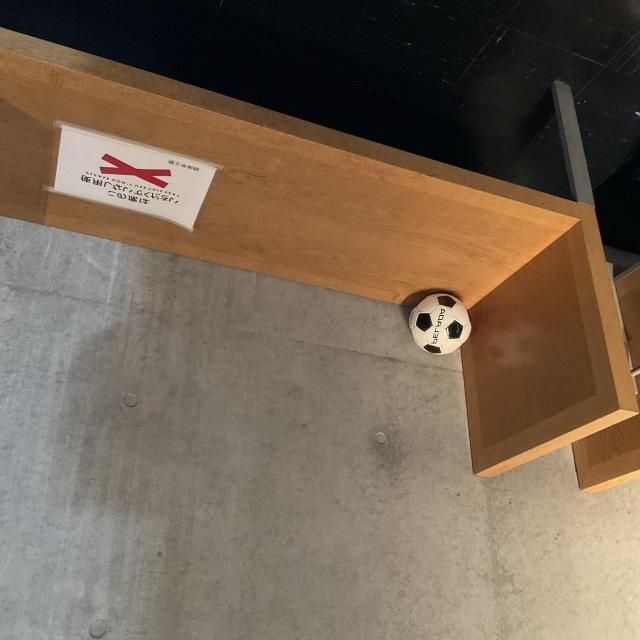ball: (276, 403, 321, 447)
